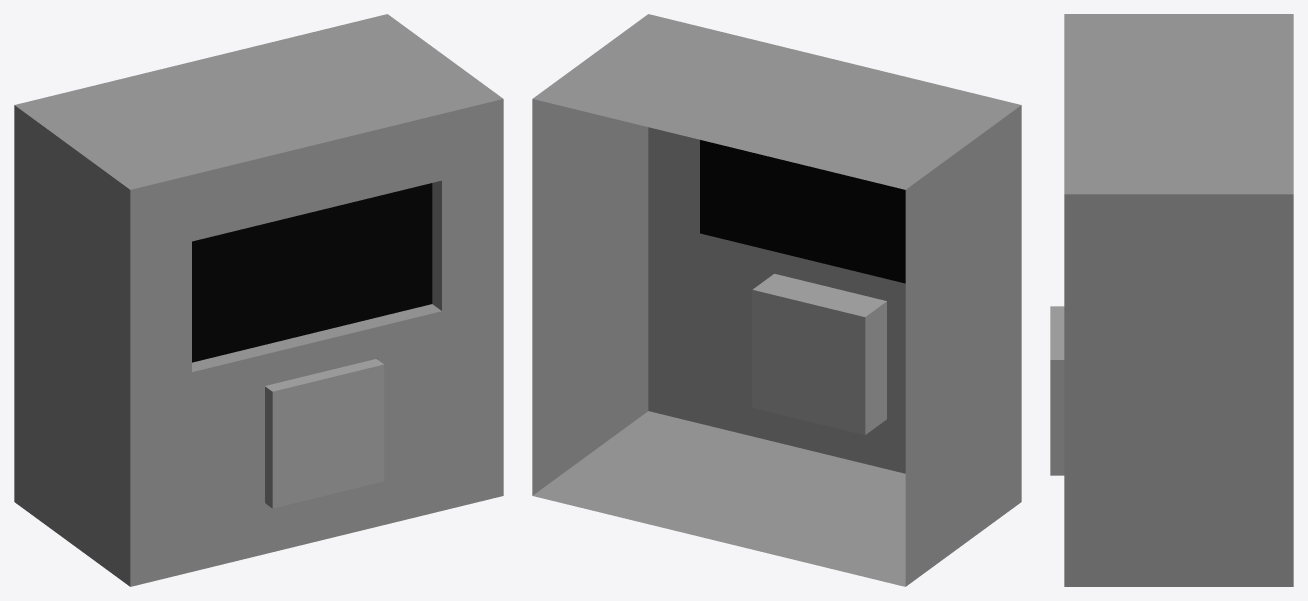
File: TimeMachine1.fbx
3 views of the same model, side by side, from view 1: azimuth 30°, elevation 25°; view 2: azimuth 150°, elevation 25°; view 3: azimuth 270°, elevation 25° (orthographic).
Visible parts, largest first — view 1: pCube8, pCube6; view 2: pCube8; view 3: pCube8, pCube6.
Boxes of the visible parts, bbox=[...] form: pCube8: bbox=[14, 14, 503, 586]; pCube6: bbox=[265, 359, 384, 508]; pCube8: bbox=[532, 14, 1021, 586]; pCube8: bbox=[1064, 14, 1293, 586]; pCube6: bbox=[1050, 306, 1064, 475].
Size of the model in its own units: 2.44 by 2.48 by 1.39.
